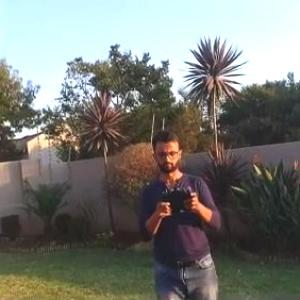follow: (133, 121, 230, 299)
